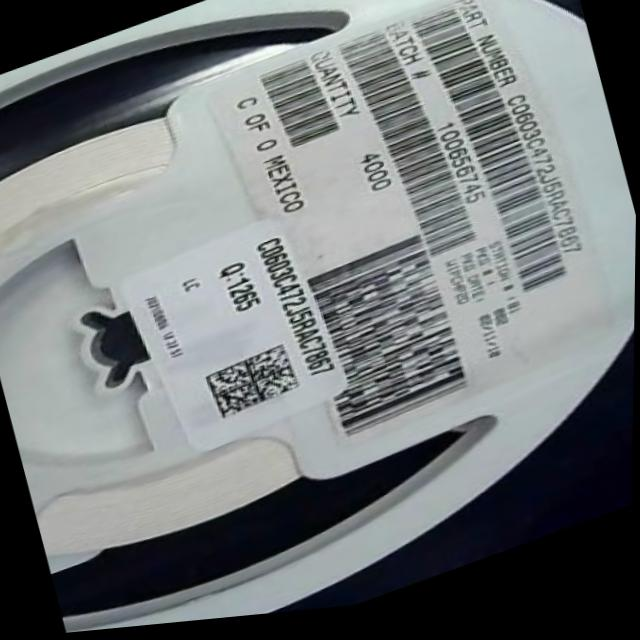datamatrix: (202, 347, 304, 432)
